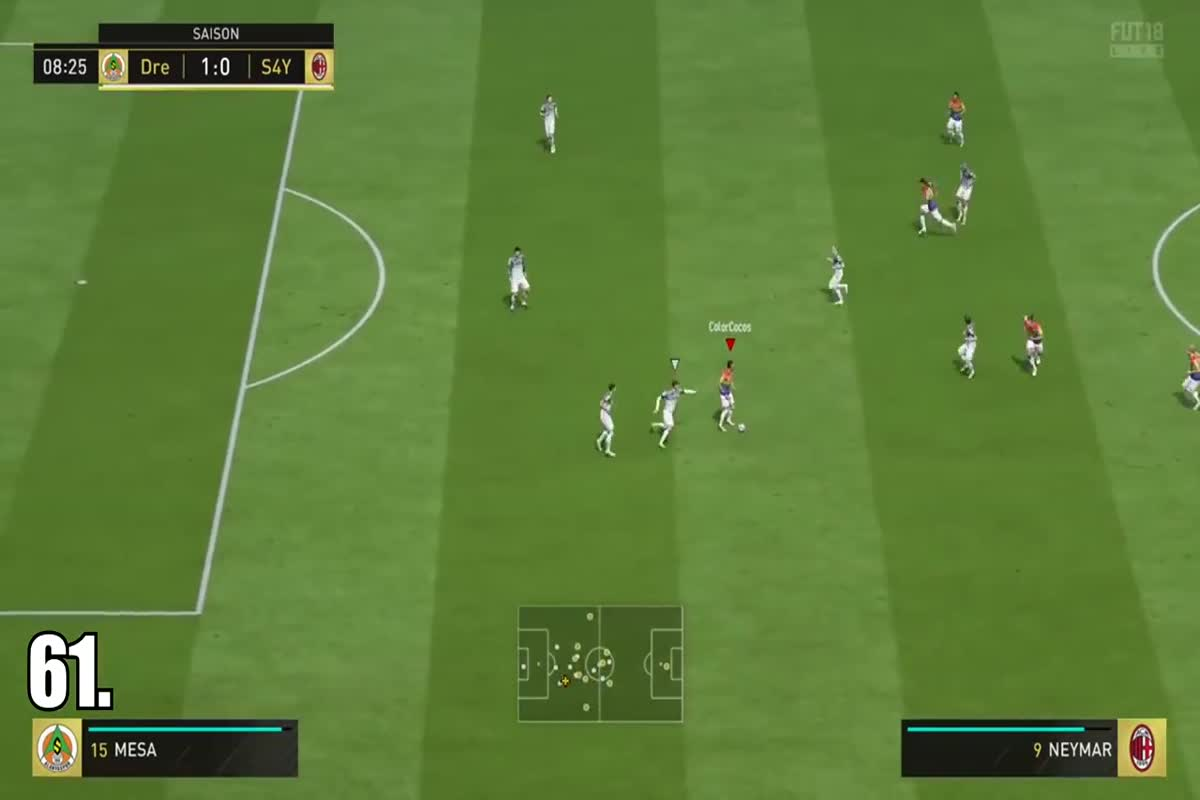ball: (735, 418, 755, 440)
